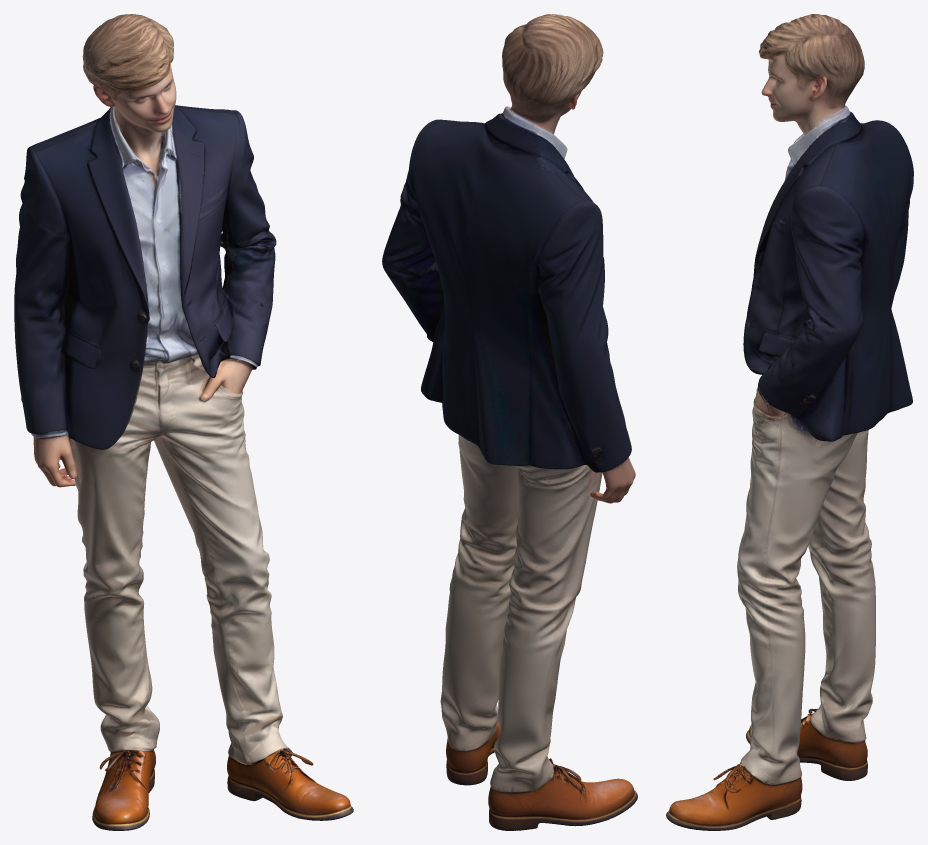
File: dylan.glb
The picture shows the model from 3 angles, left to right: view 1: azimuth 30°, elevation 25°; view 2: azimuth 150°, elevation 25°; view 3: azimuth 270°, elevation 25°; orthographic projection. The views are drawn at different scales.
Visible parts, largest first — view 1: Mesh_0; view 2: Mesh_0; view 3: Mesh_0.
Boxes of the visible parts, <box> form: Mesh_0: <box>14,14,353,830</box>; Mesh_0: <box>382,14,637,830</box>; Mesh_0: <box>666,14,913,830</box>.
Size of the model in its own units: 0.6089 by 1.9 by 0.5713.
1 material, 1 textured.
